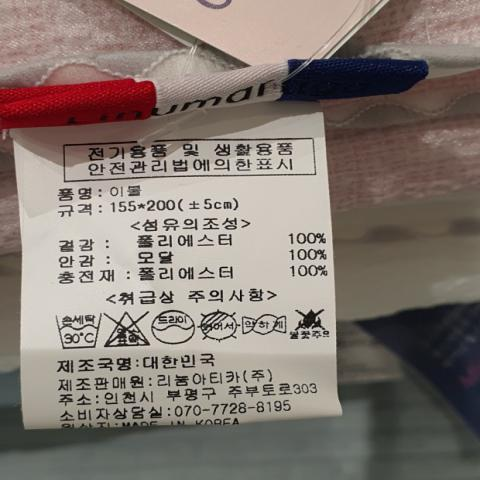dry_clean: (149, 307, 199, 346)
dry_flat_in_shade: (198, 310, 241, 343)
hand_wash: (54, 311, 105, 351)
non_chlorine_bleach: (104, 309, 154, 351)
wring: (238, 309, 294, 339)
